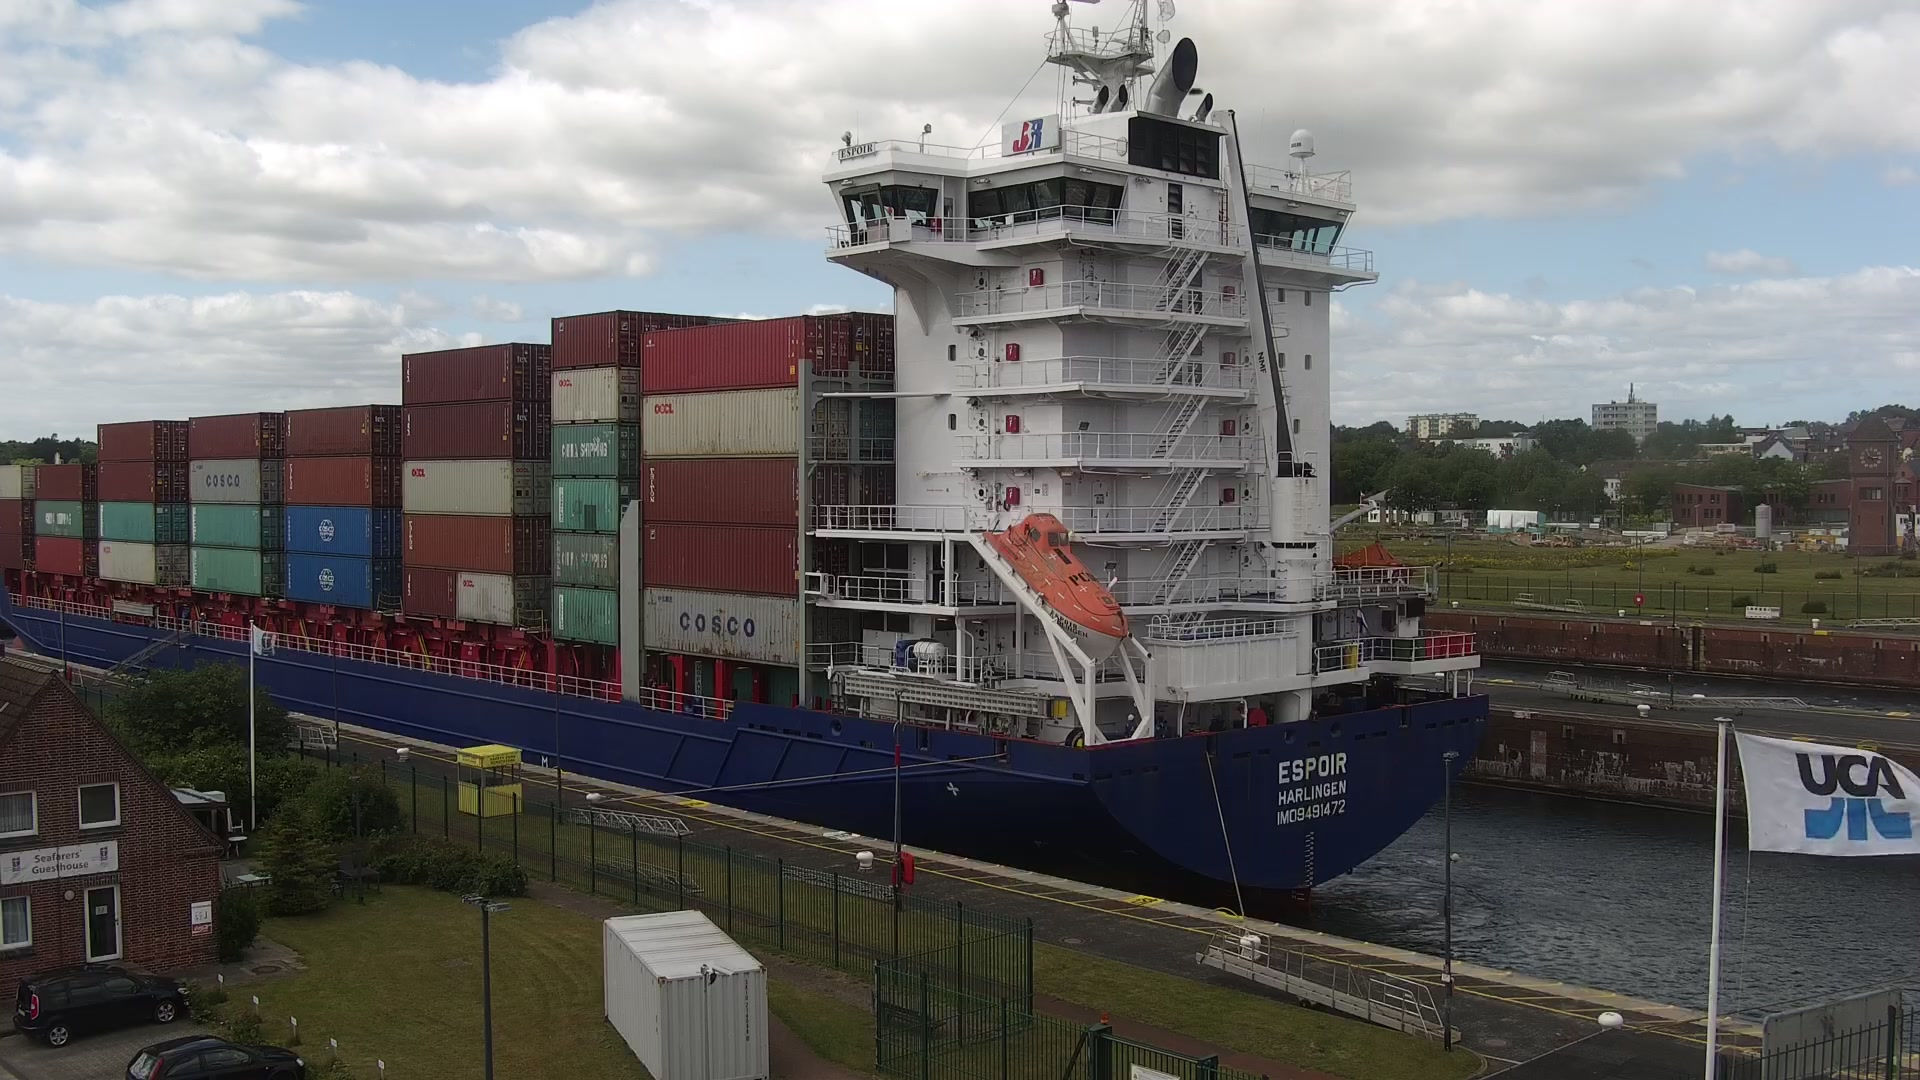human: (1123, 713, 1138, 738)
land: (13, 961, 193, 1047), (123, 1033, 306, 1079), (1530, 532, 1552, 548), (1552, 534, 1575, 549)
sea: (1, 1, 1487, 905)
